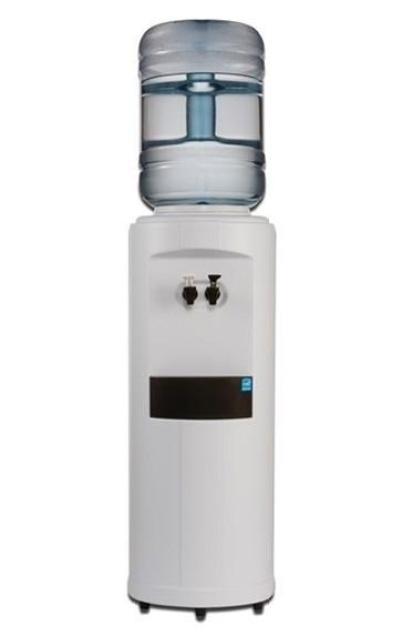Dispenser: (127, 20, 275, 622)
